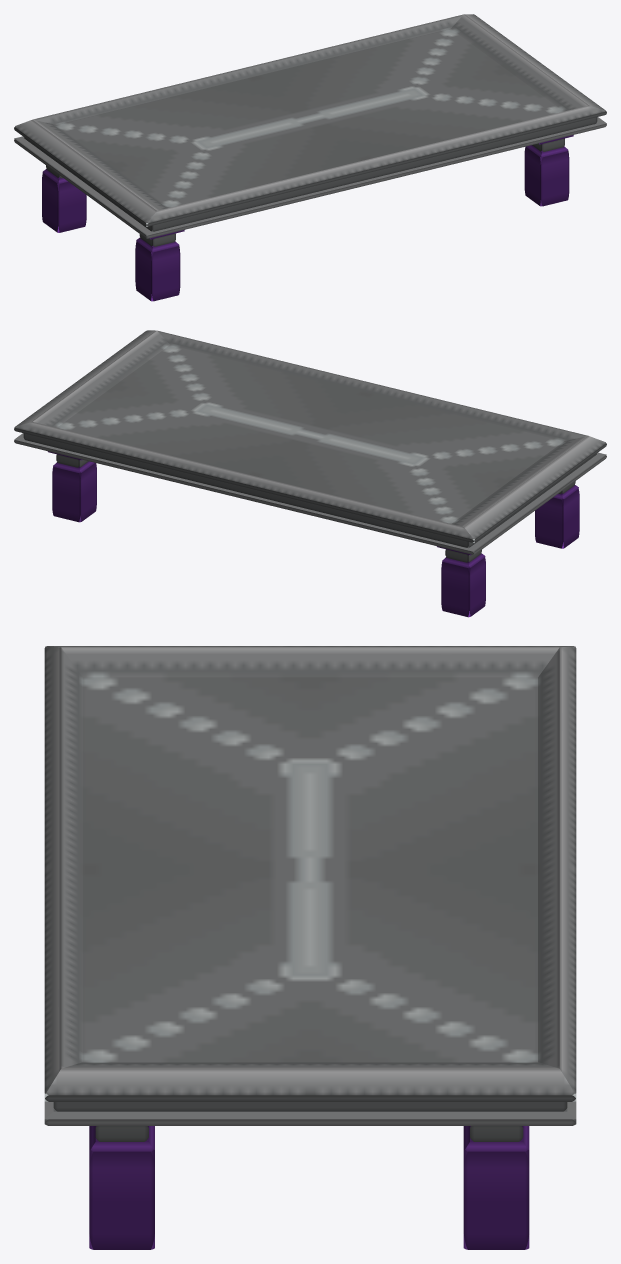
The model's file is Table.fbx.
3 views of the same model, one above another, from view 1: azimuth 30°, elevation 25°; view 2: azimuth 150°, elevation 25°; view 3: azimuth 270°, elevation 25° (orthographic). The views are drawn at different scales.
Parts seen in each view (by area): view 1: Tabletop, Footsies; view 2: Tabletop, Footsies; view 3: Tabletop, Footsies.
Boxes of the visible parts, x1,y1,x2,y2 form: Tabletop: [14, 14, 606, 238]; Footsies: [42, 135, 573, 301]; Tabletop: [14, 330, 606, 554]; Footsies: [48, 451, 579, 617]; Tabletop: [44, 646, 576, 1125]; Footsies: [89, 1126, 529, 1249].
Bounding box in the file's own units: 400 × 80.22 × 200.
Materials: 1 (1 with a texture image).
